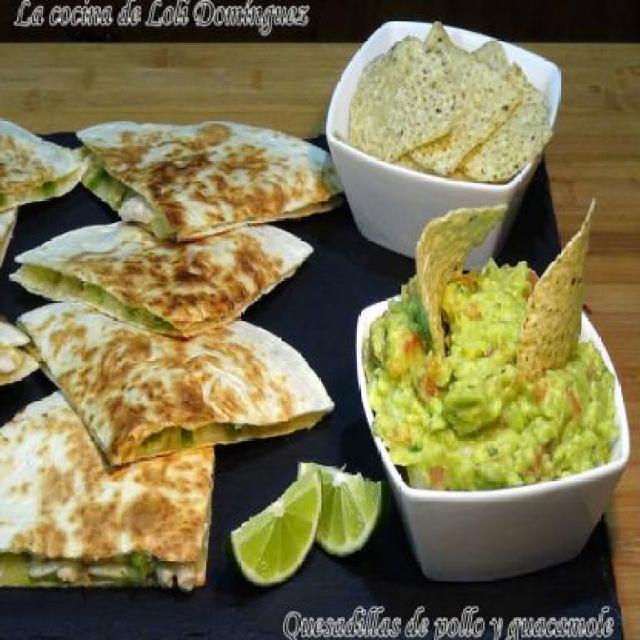guacamole: (363, 253, 628, 512)
nachos: (346, 16, 554, 199), (402, 198, 503, 370), (530, 206, 593, 374)
